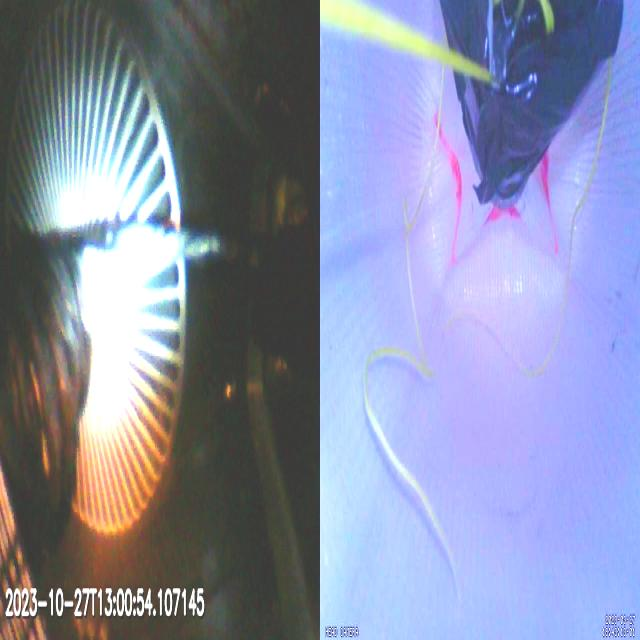red-circle: (439, 126, 552, 223)
